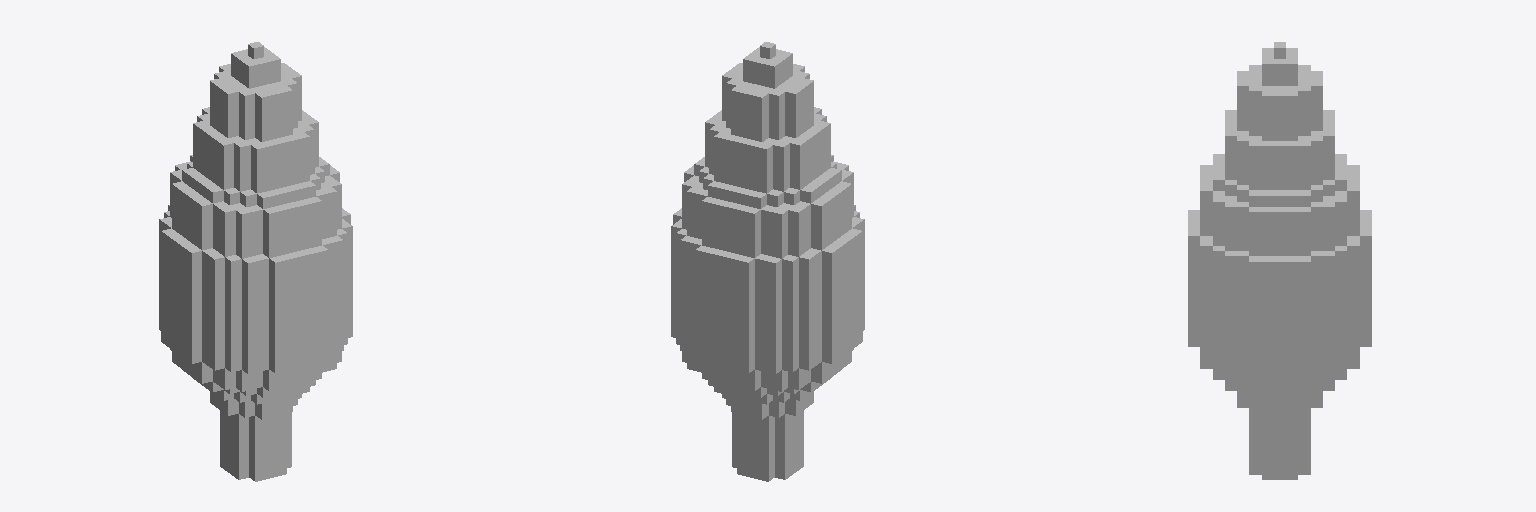
Rendered from tree.obj.
3 views of the same model, side by side, from view 1: azimuth 30°, elevation 25°; view 2: azimuth 150°, elevation 25°; view 3: azimuth 270°, elevation 25° (orthographic).
Parts seen in each view (by area): view 1: object 1; view 2: object 1; view 3: object 1.
Part boxes in pixels (left/top/right/bottom): object 1: left=159, top=42, right=352, bottom=481; object 1: left=671, top=42, right=864, bottom=481; object 1: left=1188, top=42, right=1371, bottom=479.
Size of the model in its own units: 1.5 by 3.8 by 1.5.